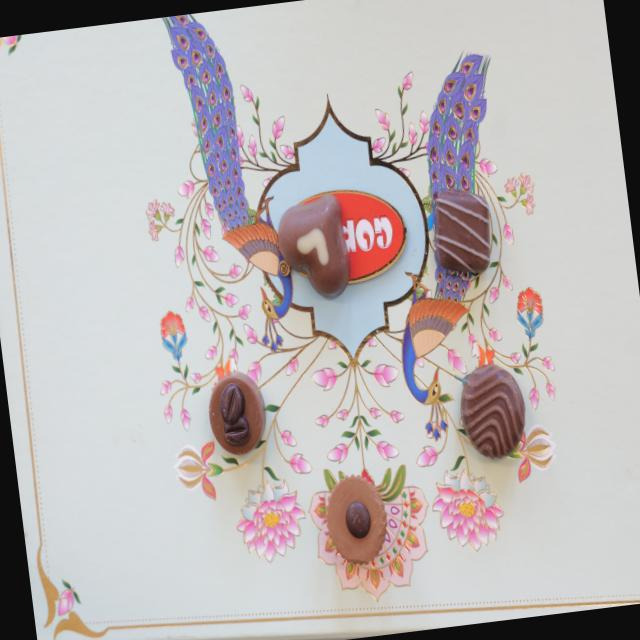Arabia: (204, 369, 269, 458)
Noblesse: (320, 471, 390, 567)
Noir_authentique: (456, 362, 531, 462)
Passion_au_lait: (272, 191, 354, 303)
Stracciatella: (428, 184, 497, 278)
